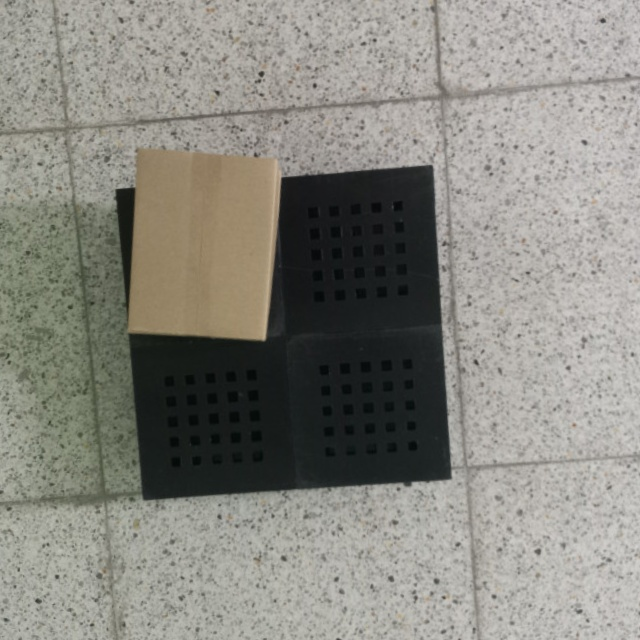box: (121, 151, 285, 344)
pallet: (112, 157, 463, 506)
